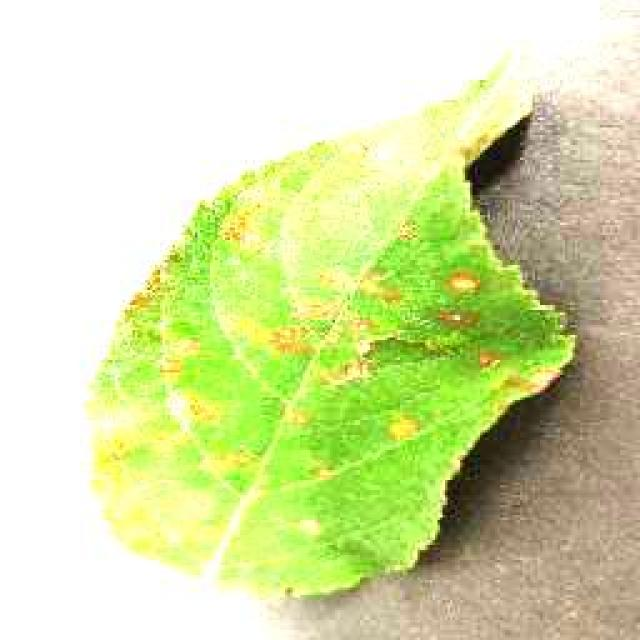apple cedar apple rust: (82, 45, 580, 603)
